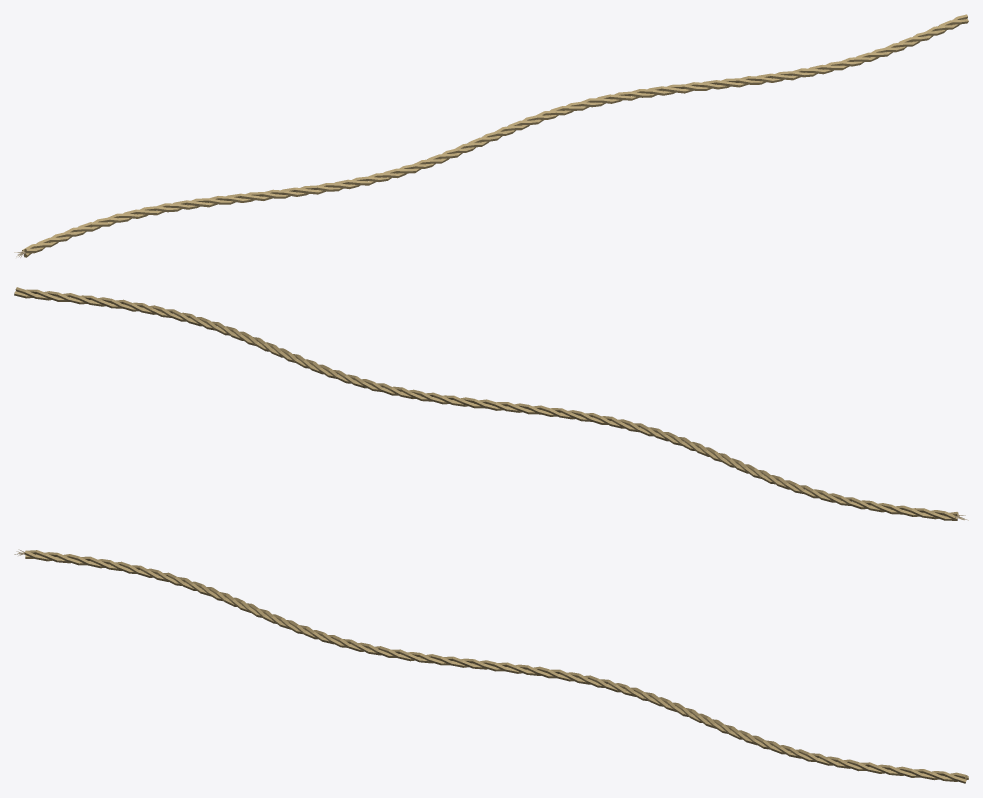
The model's file is PR_CutRope.glb.
The picture shows the model from 3 angles, top to bottom: view 1: azimuth 30°, elevation 25°; view 2: azimuth 150°, elevation 25°; view 3: azimuth 330°, elevation 25°; orthographic projection.
Visible parts, largest first — view 1: PR_CutRope; view 2: PR_CutRope; view 3: PR_CutRope.
Boxes of the visible parts, x1=… form: PR_CutRope: x1=14, y1=14, x2=968, y2=257; PR_CutRope: x1=14, y1=287, x2=968, y2=520; PR_CutRope: x1=14, y1=549, x2=968, y2=783.
Bounding box in the file's own units: 3.29 × 0.0306 × 0.171.
2 materials, 1 textured.
